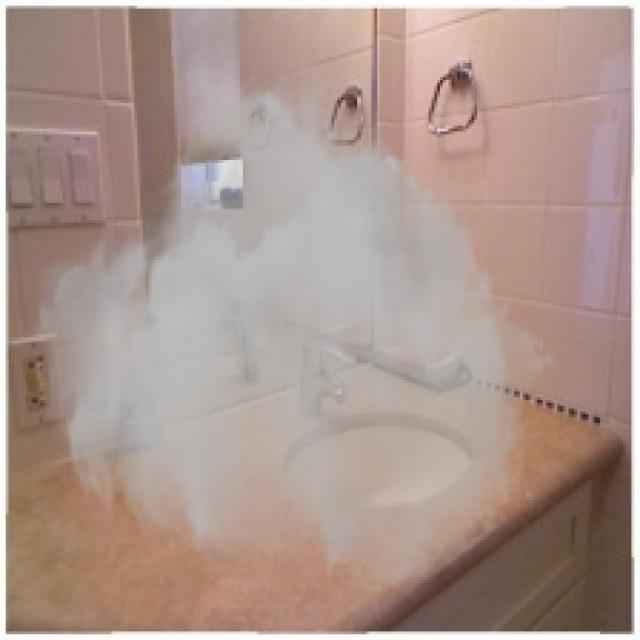Smoke: (29, 52, 558, 598)
